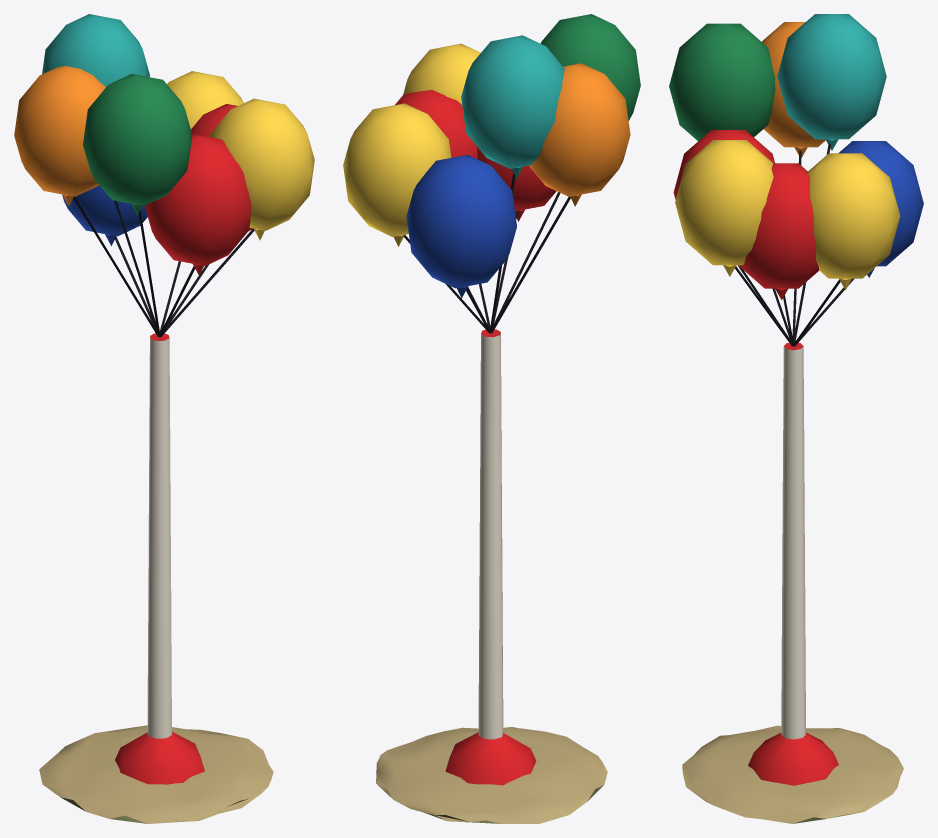
Rendered from BalloonPost.fbx.
3 renders of one model, left to right at view 1: azimuth 30°, elevation 25°; view 2: azimuth 150°, elevation 25°; view 3: azimuth 270°, elevation 25°, orthographic. The views are drawn at different scales.
Visible parts, largest first — view 1: BalloonPost; view 2: BalloonPost; view 3: BalloonPost.
Part boxes in pixels (bbox=[...]): BalloonPost: bbox=[14, 14, 314, 823]; BalloonPost: bbox=[343, 14, 640, 823]; BalloonPost: bbox=[669, 14, 923, 823].
Bounding box in the file's own units: 1.12 × 3.27 × 1.02.
1 material, 1 textured.
